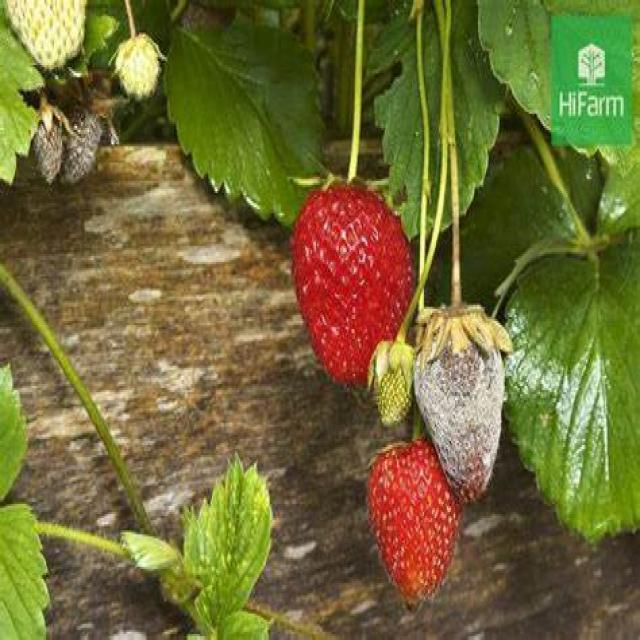Fruta sana: (283, 174, 417, 384), (361, 455, 457, 613)
Oído: (422, 314, 507, 504), (29, 100, 69, 196), (71, 108, 105, 200)
